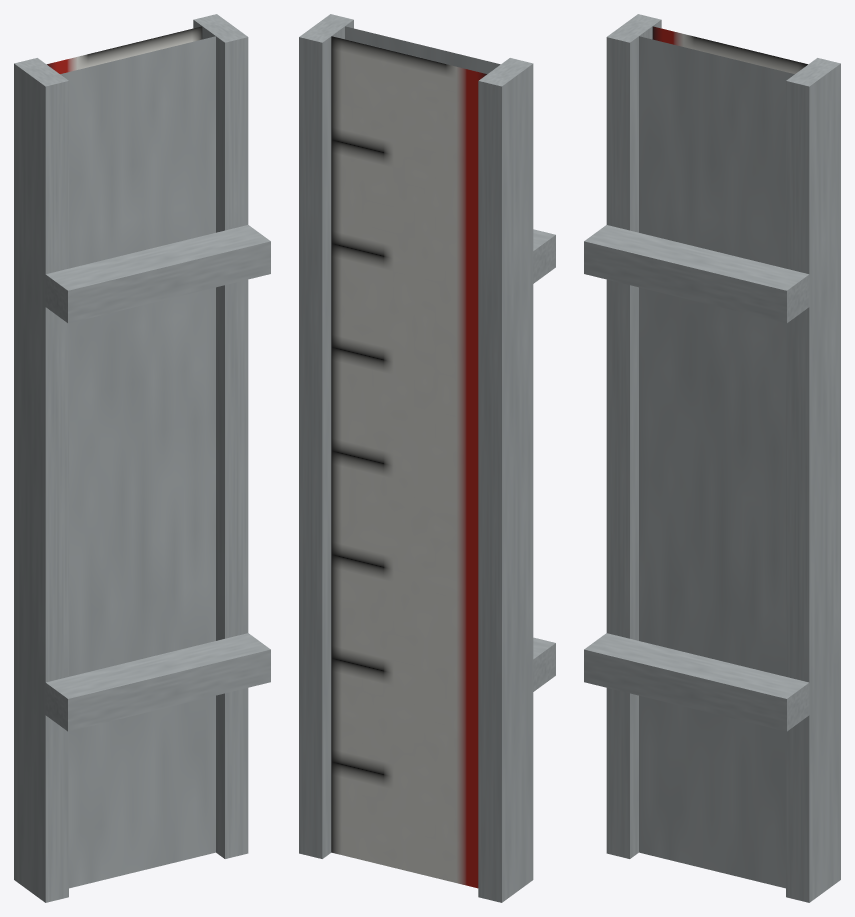
The model's file is body.obj.
3 renders of one model, left to right at view 1: azimuth 30°, elevation 25°; view 2: azimuth 150°, elevation 25°; view 3: azimuth 330°, elevation 25°, orthographic.
Size of the model in its own units: 0.26 by 1 by 0.12.
